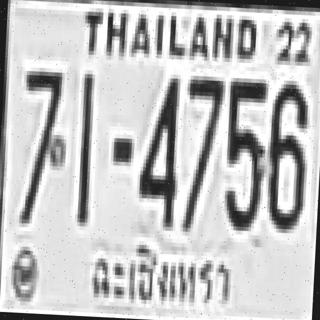N01: (75, 70, 93, 218)
N04: (135, 75, 181, 225)
N05: (221, 78, 266, 228)
N06: (264, 80, 309, 230)
N07: (17, 67, 62, 221), (180, 76, 223, 230), (18, 67, 62, 206), (182, 76, 224, 210), (19, 67, 62, 170), (183, 76, 223, 179)
P07: (84, 237, 238, 316)
